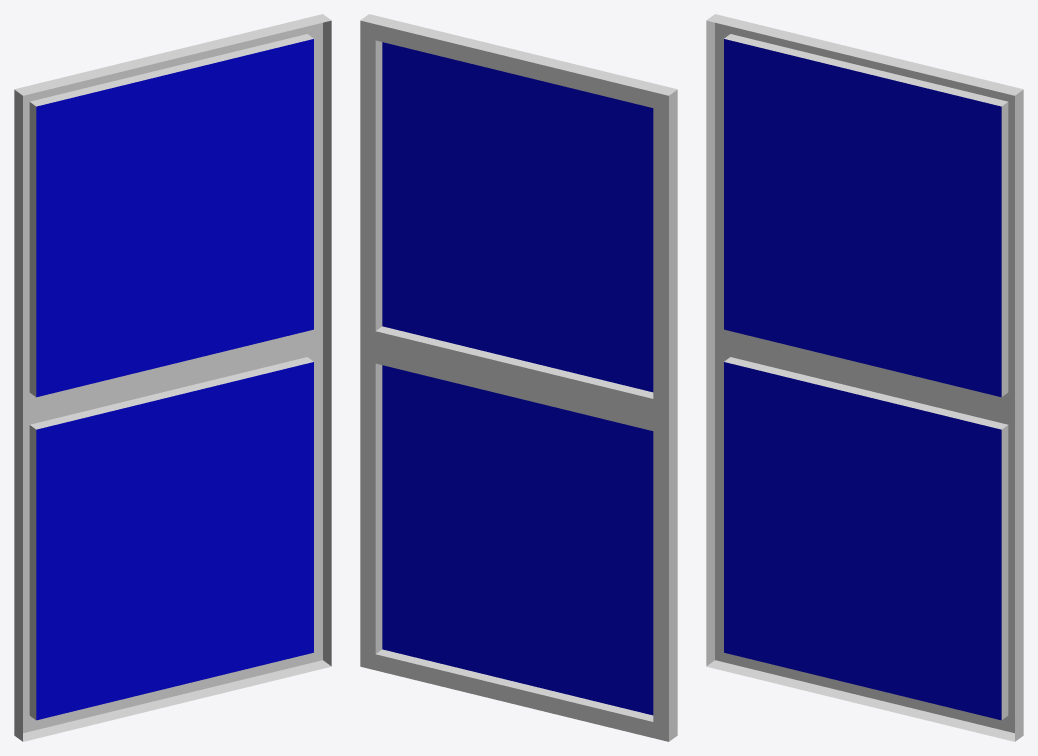
The model's file is Windows.fbx.
3 views of the same model, side by side, from view 1: azimuth 30°, elevation 25°; view 2: azimuth 150°, elevation 25°; view 3: azimuth 330°, elevation 25° (orthographic).
Parts seen in each view (by area): view 1: Cube.042; view 2: Cube.042; view 3: Cube.042.
Boxes of the visible parts, <box> form: Cube.042: <box>14,14,331,741</box>; Cube.042: <box>360,14,677,741</box>; Cube.042: <box>706,14,1023,741</box>.
Bounding box in the file's own units: 1 × 2 × 0.05.
